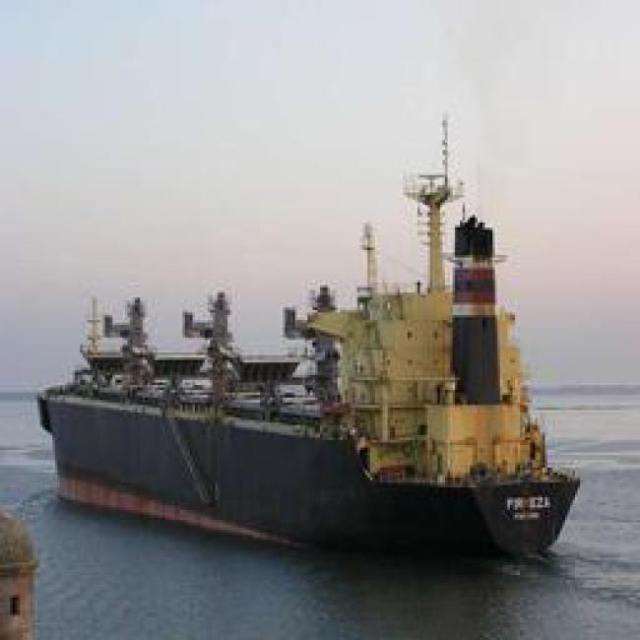boat: (16, 306, 594, 565)
